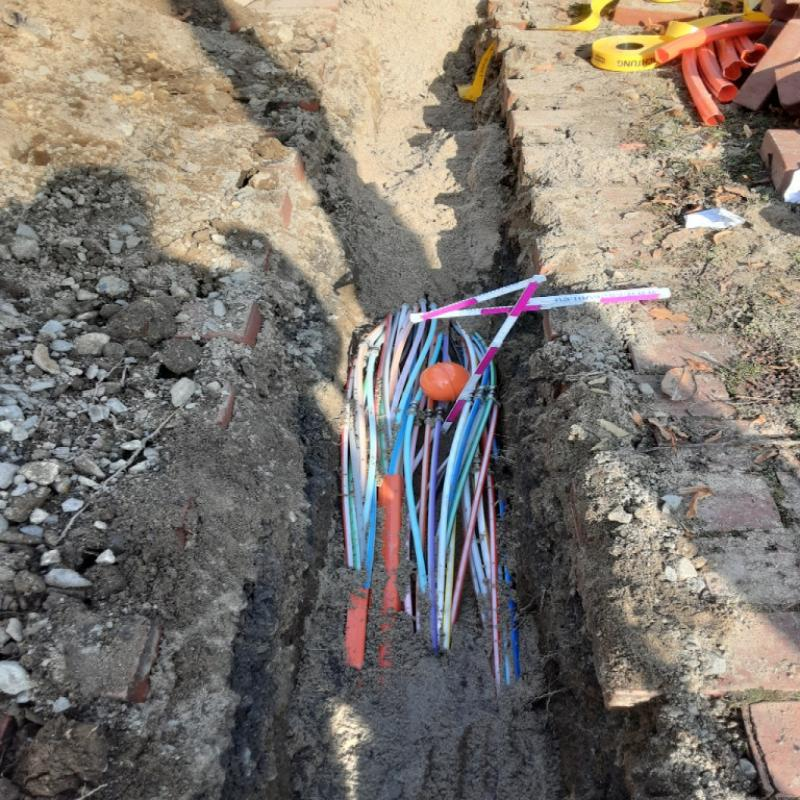Kugelmarker: (420, 362, 470, 399)
Orang-Speednetrohrchen: (379, 454, 404, 612), (349, 589, 375, 669)
